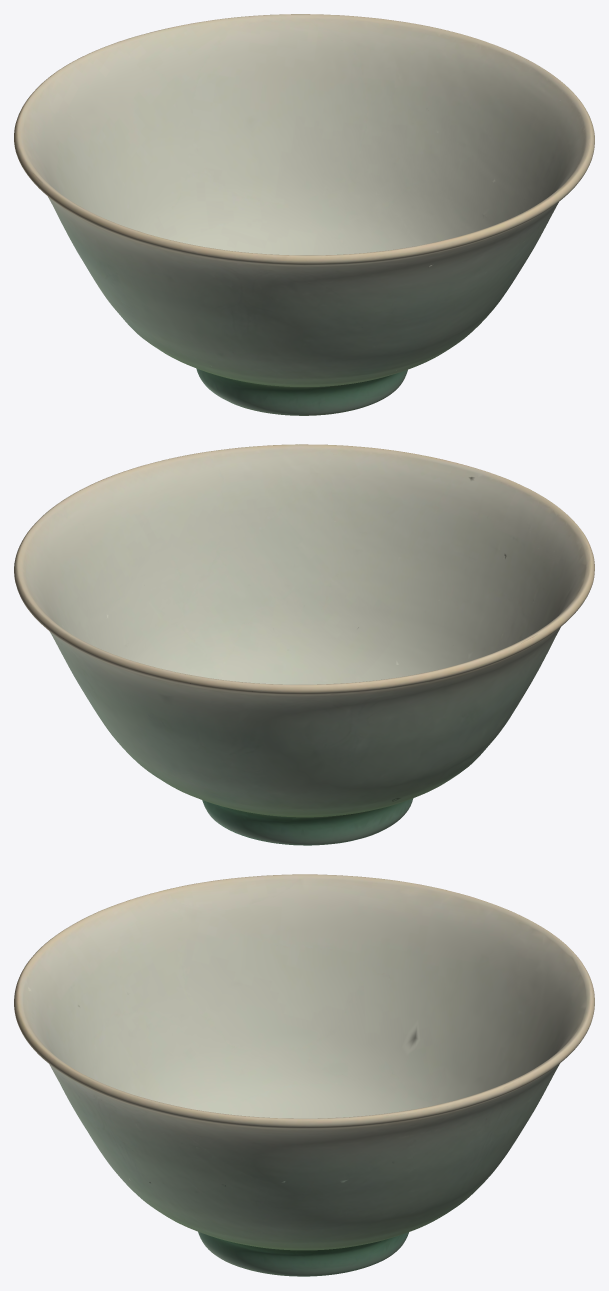
File: linglong.glb.tmp.glb
3 views of the same model, one above another, from view 1: azimuth 30°, elevation 25°; view 2: azimuth 150°, elevation 25°; view 3: azimuth 270°, elevation 25° (orthographic).
Parts seen in each view (by area): view 1: node_0; view 2: node_0; view 3: node_0.
Boxes of the visible parts, x1,y1,x2,y2 form: node_0: (14,14,594,415); node_0: (14,444,594,845); node_0: (14,874,594,1276).
Size of the model in its own units: 1.09 by 0.5 by 1.09.
Materials: 1 (1 with a texture image).
